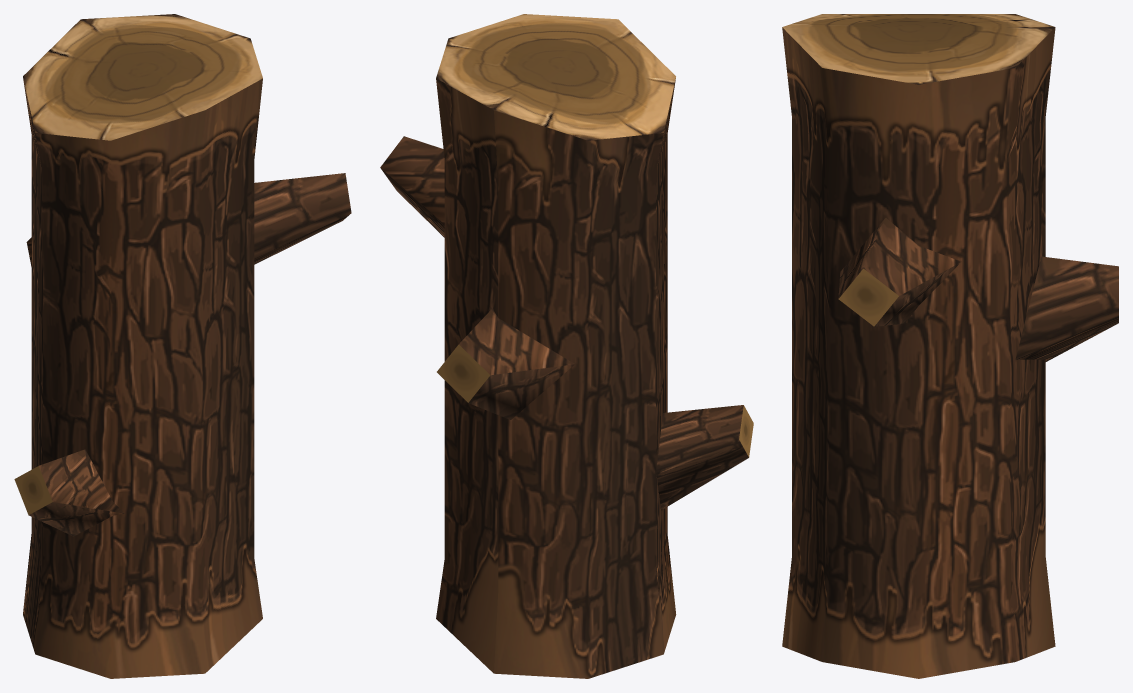
File: resource_log01_A.fbx
The picture shows the model from 3 angles, left to right: view 1: azimuth 30°, elevation 25°; view 2: azimuth 150°, elevation 25°; view 3: azimuth 270°, elevation 25°; orthographic projection. The views are drawn at different scales.
Visible parts, largest first — view 1: resource_log01_A; view 2: resource_log01_A; view 3: resource_log01_A.
Boxes of the visible parts, left/top/right/bottom form: resource_log01_A: left=14, top=14, right=351, bottom=678; resource_log01_A: left=380, top=14, right=753, bottom=678; resource_log01_A: left=782, top=14, right=1118, bottom=678.
Bounding box in the file's own units: 68.16 × 108 × 53.08.
